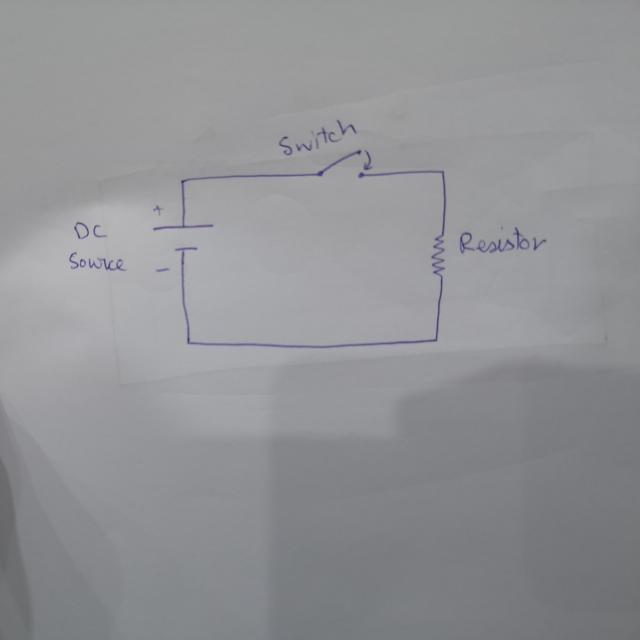junction: (430, 163, 450, 181), (428, 331, 443, 346), (182, 335, 196, 349), (177, 176, 188, 186)
resistor: (430, 230, 448, 280)
source: (147, 218, 212, 250)
switch: (312, 145, 372, 181)
text: (276, 117, 360, 156), (455, 226, 545, 254), (66, 252, 127, 271), (71, 221, 105, 239)
